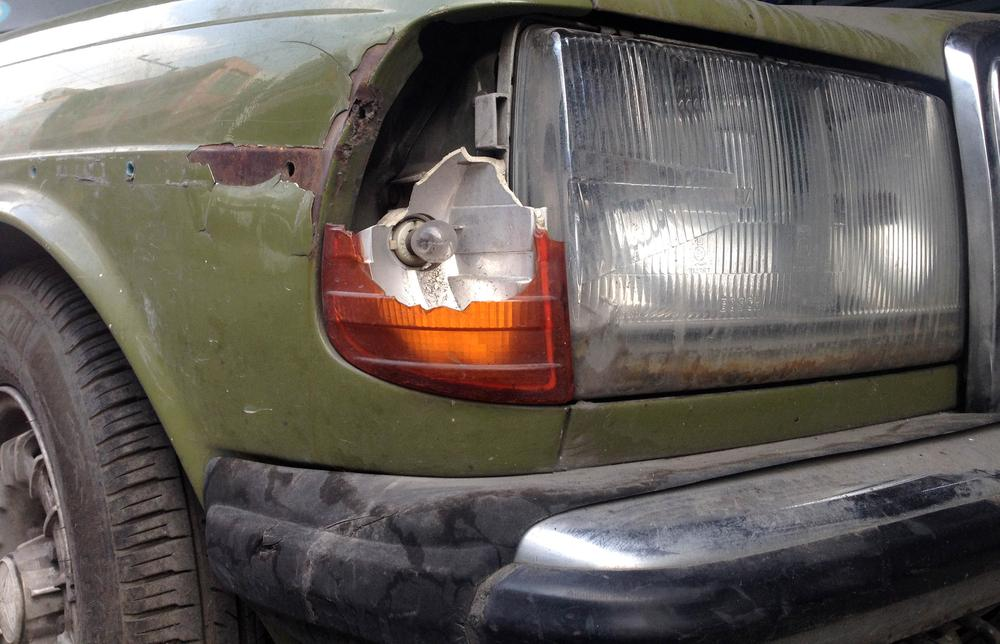lamp broken: (326, 12, 964, 404)
